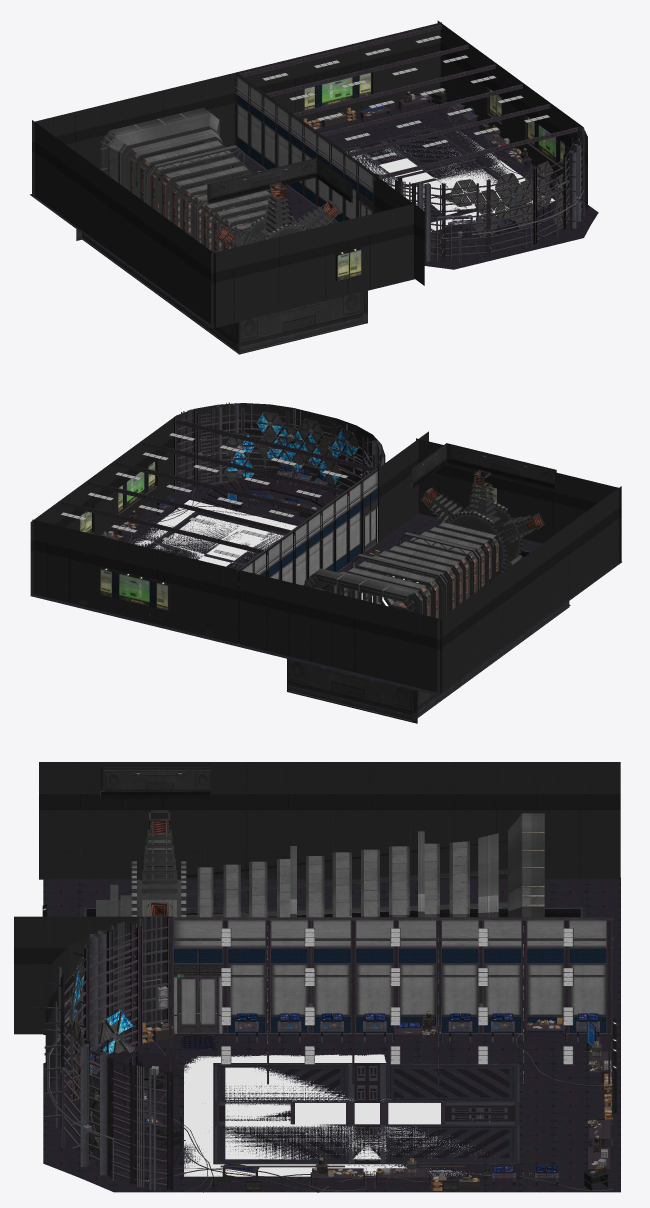
File: arcade_antman2_hanklab_a01.fbx
3 renders of one model, top to bottom at view 1: azimuth 30°, elevation 25°; view 2: azimuth 150°, elevation 25°; view 3: azimuth 270°, elevation 25°, orthographic. The views are drawn at different scales.
Parts seen in each view (by area): view 1: arcade_antman2_hanklab_a01, arcade_antman2_hanklab_a01_ter_01, arcade_antman2_hanklab_a01_navi, arcade_antman2_hanklab_a01_navi_02; view 2: arcade_antman2_hanklab_a01, arcade_antman2_hanklab_a01_ter_01, arcade_antman2_hanklab_a01_navi, arcade_antman2_hanklab_a01_navi_02; view 3: arcade_antman2_hanklab_a01, arcade_antman2_hanklab_a01_ter_01, arcade_antman2_hanklab_a01_navi, arcade_antman2_hanklab_a01_navi_02.
Part boxes in pixels (x1,y1,x2,y2): arcade_antman2_hanklab_a01: (30,20,587,354); arcade_antman2_hanklab_a01_ter_01: (315,99,598,269); arcade_antman2_hanklab_a01_navi: (347,146,504,215); arcade_antman2_hanklab_a01_navi_02: (431,132,554,231); arcade_antman2_hanklab_a01: (30,402,621,723); arcade_antman2_hanklab_a01_ter_01: (31,478,340,645); arcade_antman2_hanklab_a01_navi: (154,515,283,566); arcade_antman2_hanklab_a01_navi_02: (135,500,296,546); arcade_antman2_hanklab_a01: (14,762,620,1192); arcade_antman2_hanklab_a01_ter_01: (43,1035,620,1192); arcade_antman2_hanklab_a01_navi: (225,1067,489,1159); arcade_antman2_hanklab_a01_navi_02: (184,1054,531,1176).
Size of the model in its own units: 58.09 by 17.96 by 45.97.
5 materials, 4 textured.
